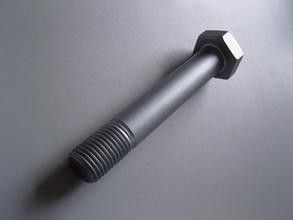screw: (69, 30, 244, 182)
